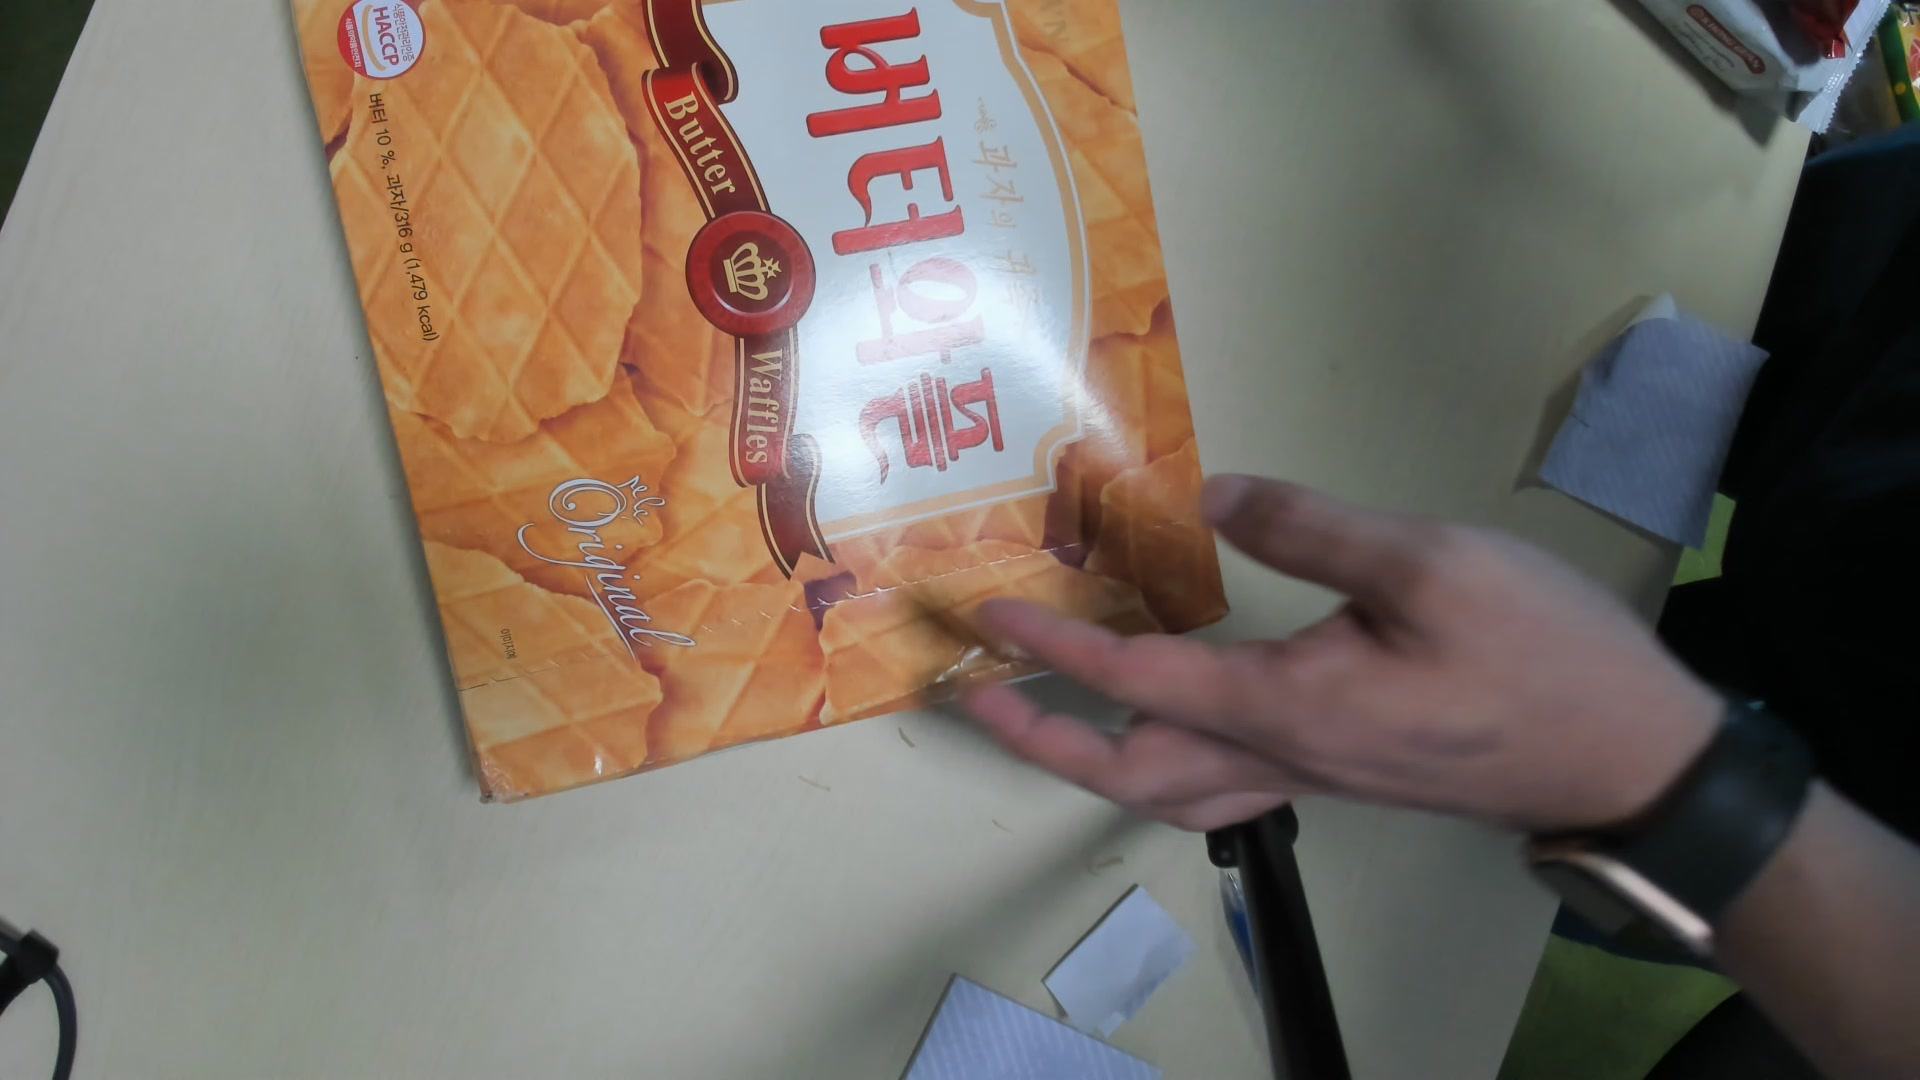BiscuitsCrackersCookies_300-399g_NonHalal_NonHealthy: (294, 5, 1222, 800)
